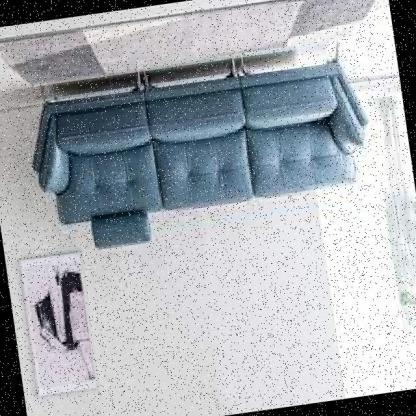Sofa: (5, 28, 397, 270)
